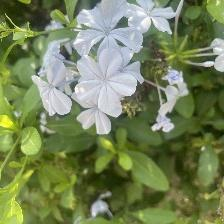chitrak: (75, 1, 148, 56), (77, 54, 132, 119), (35, 60, 74, 116), (123, 1, 178, 37)
